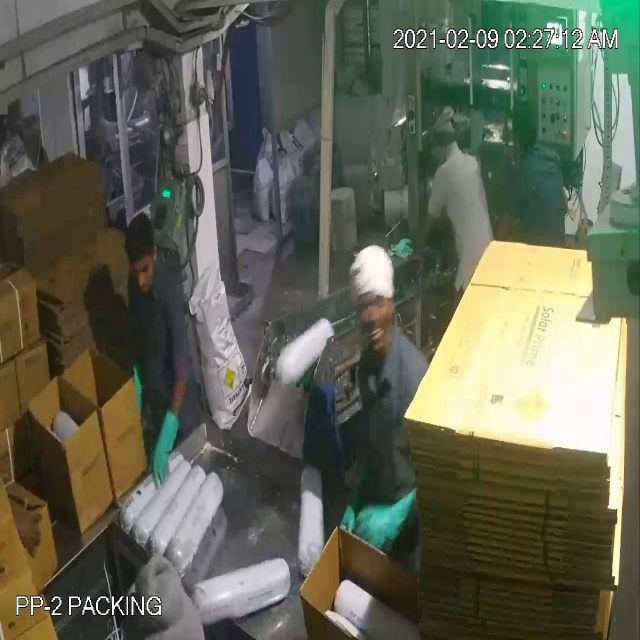Guantes: (352, 482, 430, 569), (151, 393, 186, 492)
Sin_guantes: (408, 197, 437, 277)
